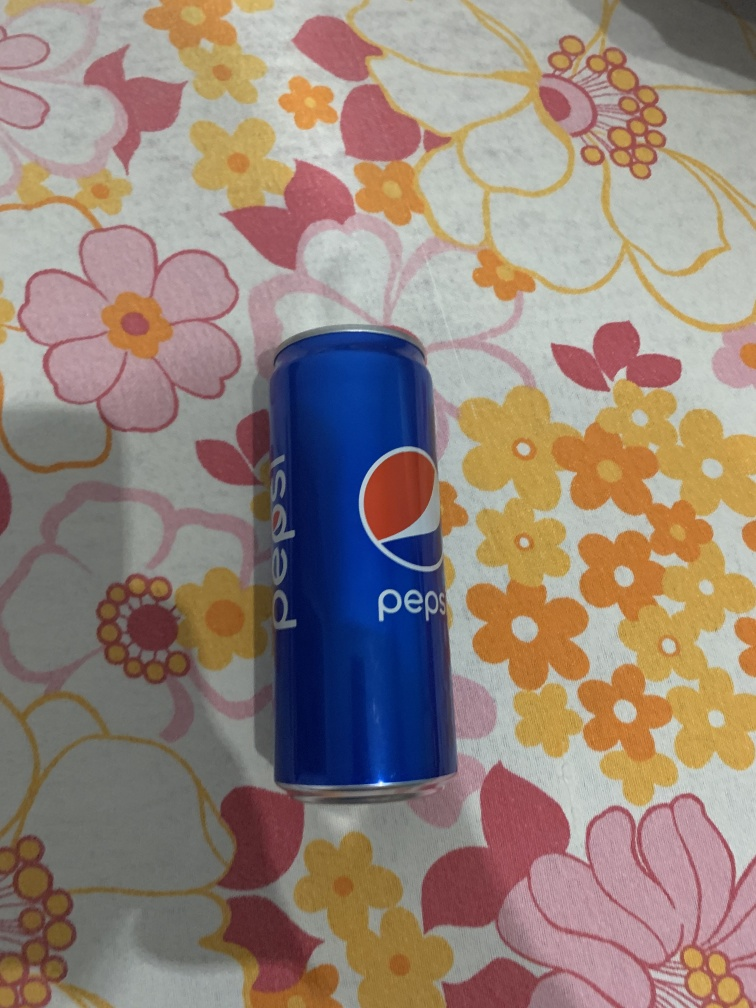pepsi: (264, 321, 464, 814)
